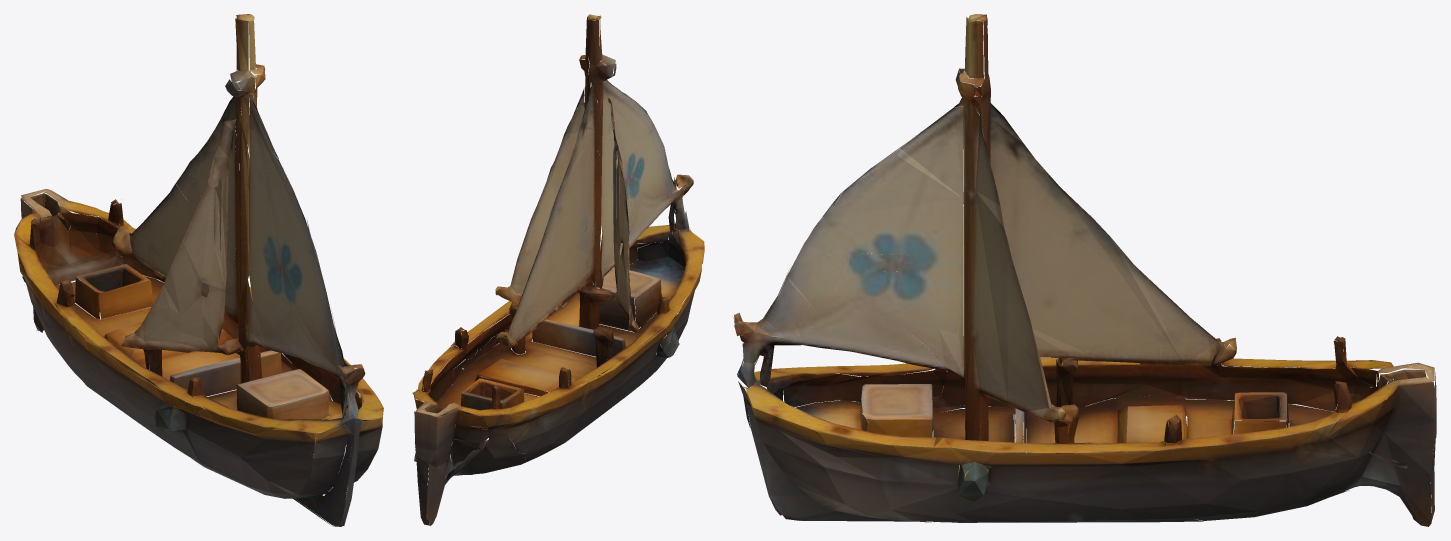
File: ai_barca.glb
3 views of the same model, side by side, from view 1: azimuth 30°, elevation 25°; view 2: azimuth 150°, elevation 25°; view 3: azimuth 270°, elevation 25° (orthographic). The views are drawn at different scales.
Visible parts, largest first — view 1: _leggero; view 2: _leggero; view 3: _leggero.
Part boxes in pixels (x1,y1,x2,y2): _leggero: (14,14,383,526); _leggero: (412,14,704,525); _leggero: (733,14,1436,526).
Size of the model in its own units: 1.63 by 3.85 by 4.79.
Materials: 1 (1 with a texture image).
